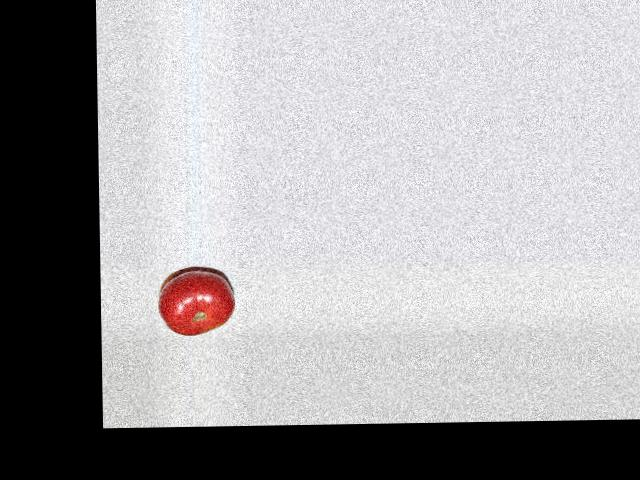tomato: (156, 271, 235, 336)
